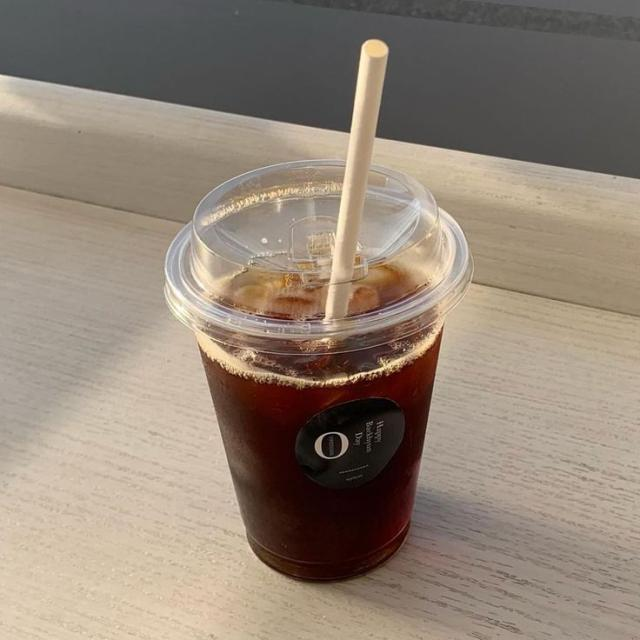plastic cup: (164, 157, 474, 584)
